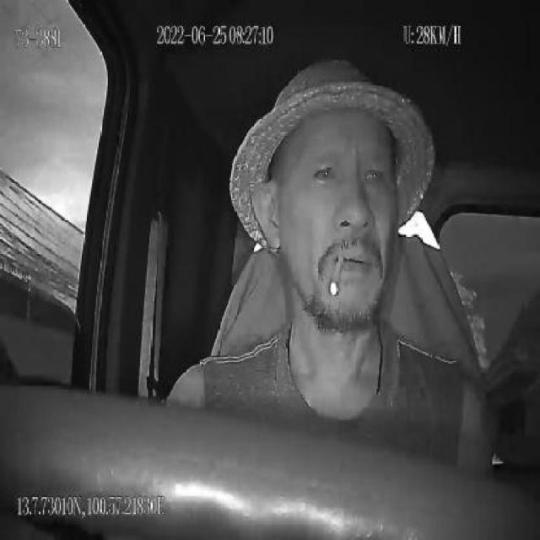smoking: (329, 250, 344, 298)
